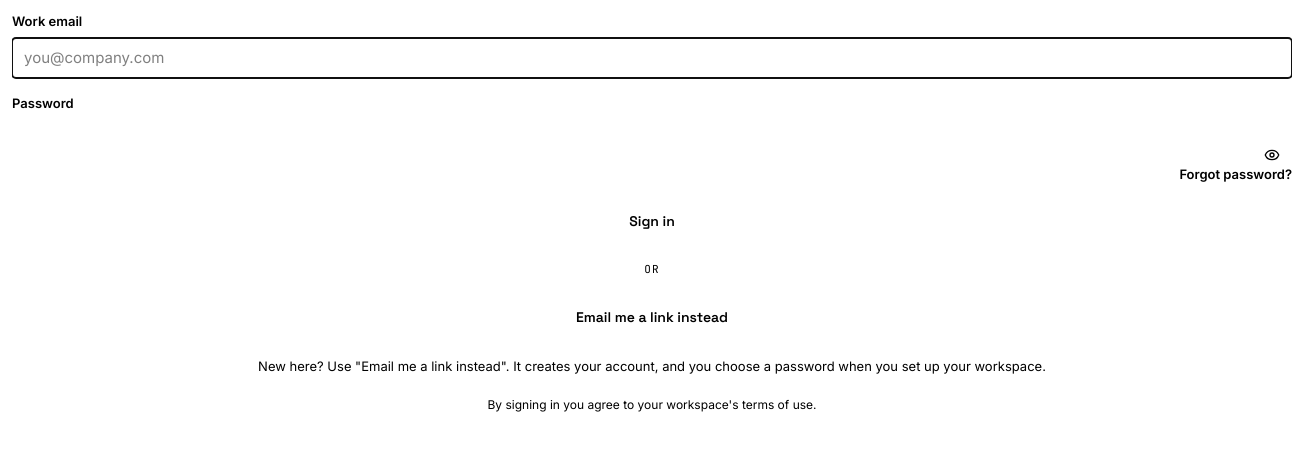
Test case: the human check on sign-in › shows what to do and sends nothing when the check fails
The width and height of the screenshot is (1304, 454).
Type "asha@example.com" into the field labelled "Work email" at (652, 58), box left=12, top=38, right=1292, bottom=78
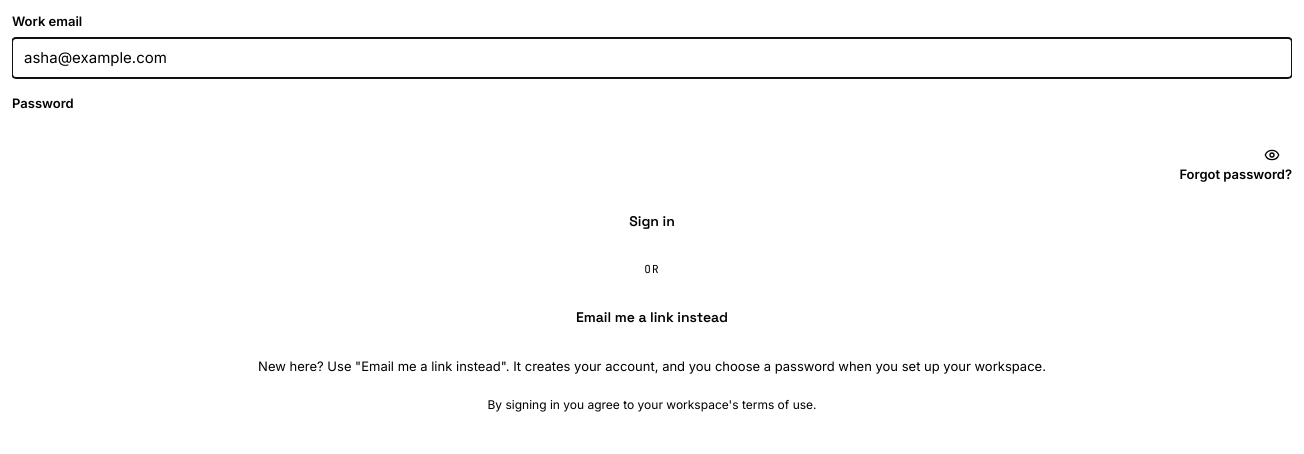
Type "mango-river-lantern" into the password field labelled "Password" at (652, 139), box left=12, top=119, right=1292, bottom=159
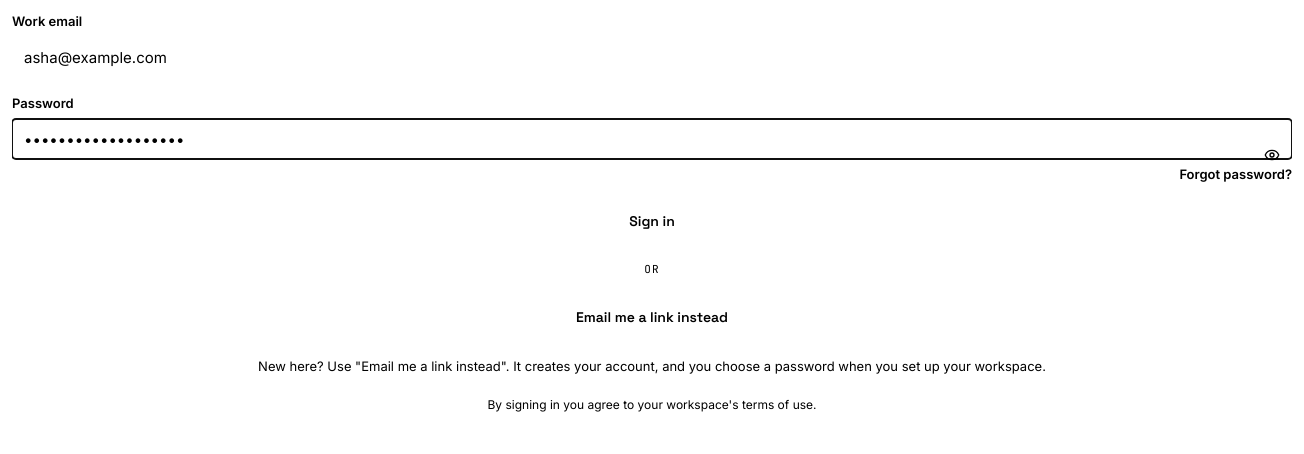
Click the button "Sign in" at (652, 220), box left=12, top=200, right=1292, bottom=240
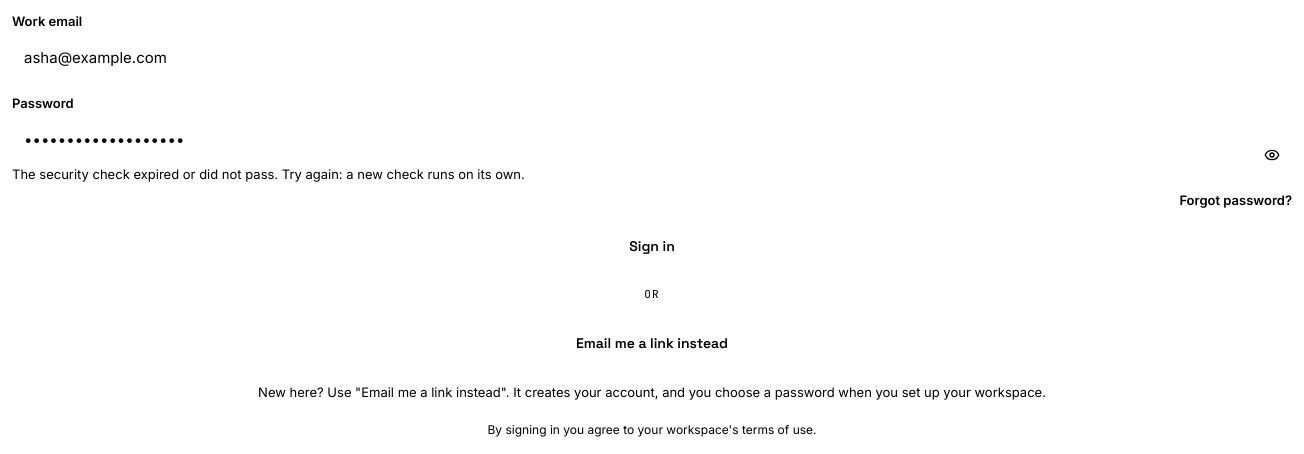
Expected: the text "security check expired or did not pass" is shown, left=12, top=166, right=525, bottom=182
